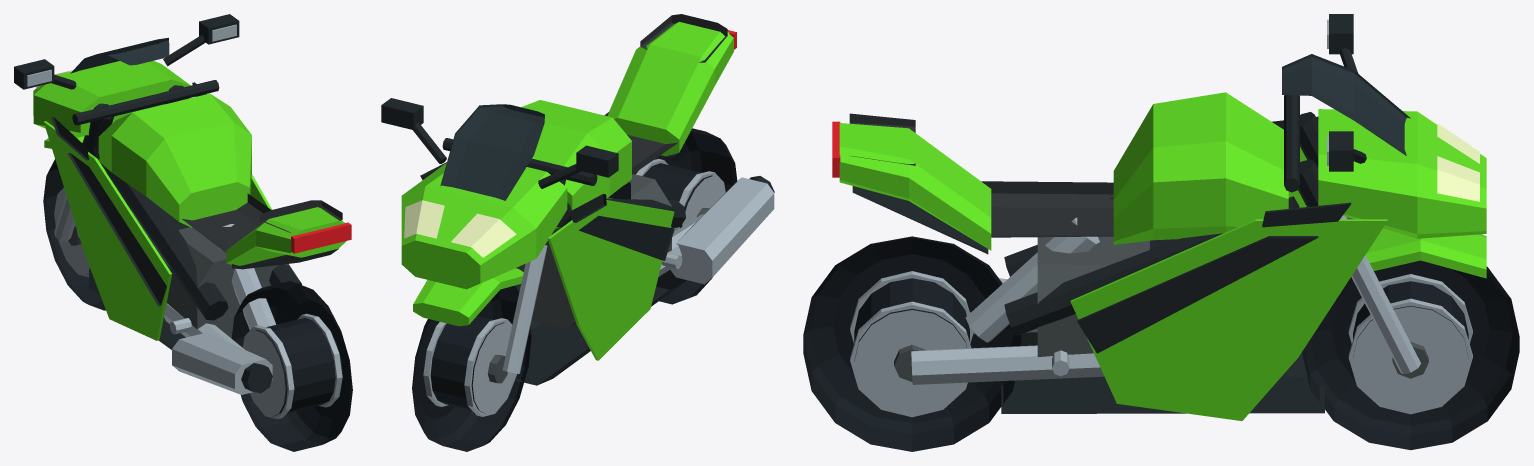
The model's file is car_moto.glb.
3 renders of one model, left to right at view 1: azimuth 30°, elevation 25°; view 2: azimuth 150°, elevation 25°; view 3: azimuth 270°, elevation 25°, orthographic. The views are drawn at different scales.
Parts seen in each view (by area): view 1: Sculpted fuel tank, Wheel_Rear_Tire, Fairing_1, Front nose fairing, Frame spar.001, Engine block, Exhaust silencer, Raised rear tail, Wheel_Rear_AlloyDisc.001, Diagonal black insert_1, Rider seat, Wheel_Front_Tire (+18 smaller); view 2: Front nose fairing, Fairing_1, Raised rear tail, Wheel_Front_Tire, Smoked windscreen, Sculpted fuel tank, Exhaust silencer, Wheel_Rear_Tire, Lower engine belly, Front green fender, Wheel_Front_AlloyDisc.001, Engine block (+17 smaller); view 3: Fairing_-1, Wheel_Rear_Tire, Sculpted fuel tank, Wheel_Front_Tire, Front nose fairing, Raised rear tail, Wheel_Front_AlloyDisc, Wheel_Rear_AlloyDisc, Diagonal black insert_-1, Rider seat, Lower engine belly, Rear swingarm (+17 smaller).
Boxes of the visible parts, bbox=[...] form: Sculpted fuel tank: bbox=[98, 93, 251, 227]; Wheel_Rear_Tire: bbox=[231, 281, 352, 451]; Fairing_1: bbox=[43, 121, 171, 340]; Front nose fairing: bbox=[33, 61, 190, 136]; Frame spar.001: bbox=[94, 143, 228, 320]; Engine block: bbox=[130, 209, 289, 338]; Exhaust silencer: bbox=[172, 332, 272, 394]; Raised rear tail: bbox=[226, 207, 346, 265]; Wheel_Rear_AlloyDisc.001: bbox=[242, 325, 294, 419]; Diagonal black insert_1: bbox=[67, 153, 166, 306]; Rider seat: bbox=[182, 193, 270, 252]; Wheel_Front_Tire: bbox=[43, 159, 130, 310]; Front nose fairing: bbox=[401, 163, 567, 289]; Fairing_1: bbox=[547, 200, 674, 360]; Raised rear tail: bbox=[607, 21, 733, 156]; Wheel_Front_Tire: bbox=[412, 285, 531, 451]; Smoked windscreen: bbox=[440, 104, 544, 200]; Sculpted fuel tank: bbox=[521, 100, 631, 229]; Exhaust silencer: bbox=[670, 177, 774, 284]; Wheel_Rear_Tire: bbox=[634, 128, 737, 304]; Lower engine belly: bbox=[515, 270, 686, 385]; Front green fender: bbox=[413, 268, 523, 326]; Wheel_Front_AlloyDisc.001: bbox=[464, 318, 516, 416]; Engine block: bbox=[515, 174, 671, 328]; Fairing_-1: bbox=[1070, 219, 1387, 420]; Wheel_Rear_Tire: bbox=[803, 236, 1021, 451]; Sculpted fuel tank: bbox=[1113, 92, 1288, 244]; Wheel_Front_Tire: bbox=[1302, 260, 1519, 450]; Front nose fairing: bbox=[1318, 109, 1486, 238]; Raised rear tail: bbox=[839, 123, 991, 250]; Wheel_Front_AlloyDisc: bbox=[1348, 298, 1472, 414]; Wheel_Rear_AlloyDisc: bbox=[850, 301, 971, 417]; Diagonal black insert_-1: bbox=[1077, 236, 1318, 353]; Rider seat: bbox=[981, 181, 1113, 237]; Lower engine belly: bbox=[1001, 332, 1324, 413]; Rear swingarm: bbox=[911, 345, 1104, 384].
Size of the model in its own units: 0.98 by 1.24 by 2.17.
